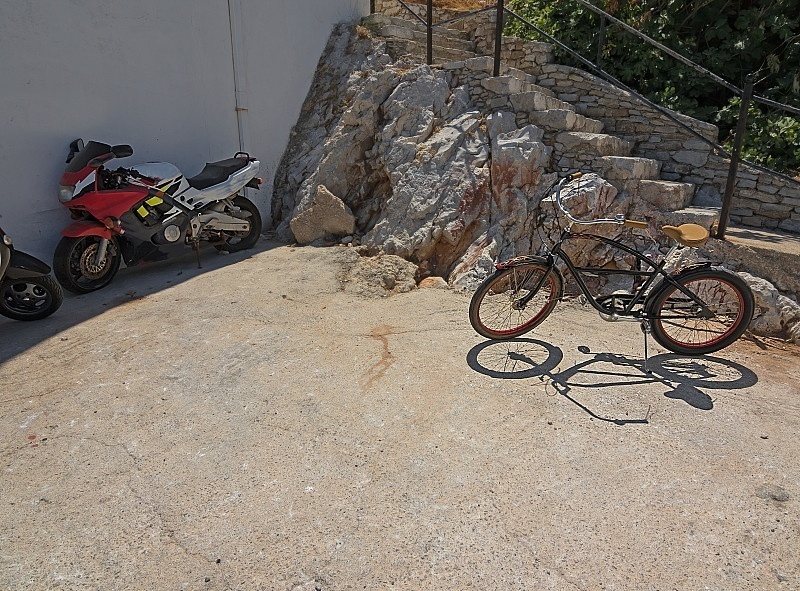non-vehicle: (472, 179, 754, 363), (44, 119, 283, 291), (0, 162, 61, 324)
